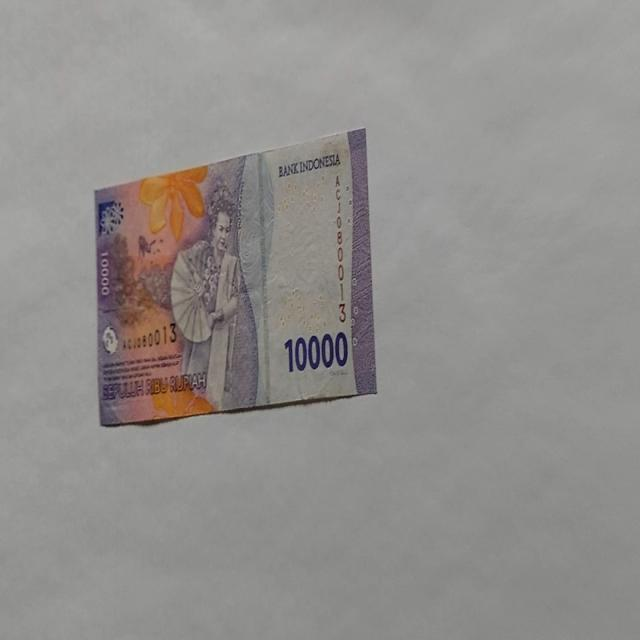sepuluh ribu rupiah: (93, 125, 377, 428), (282, 328, 350, 374)
